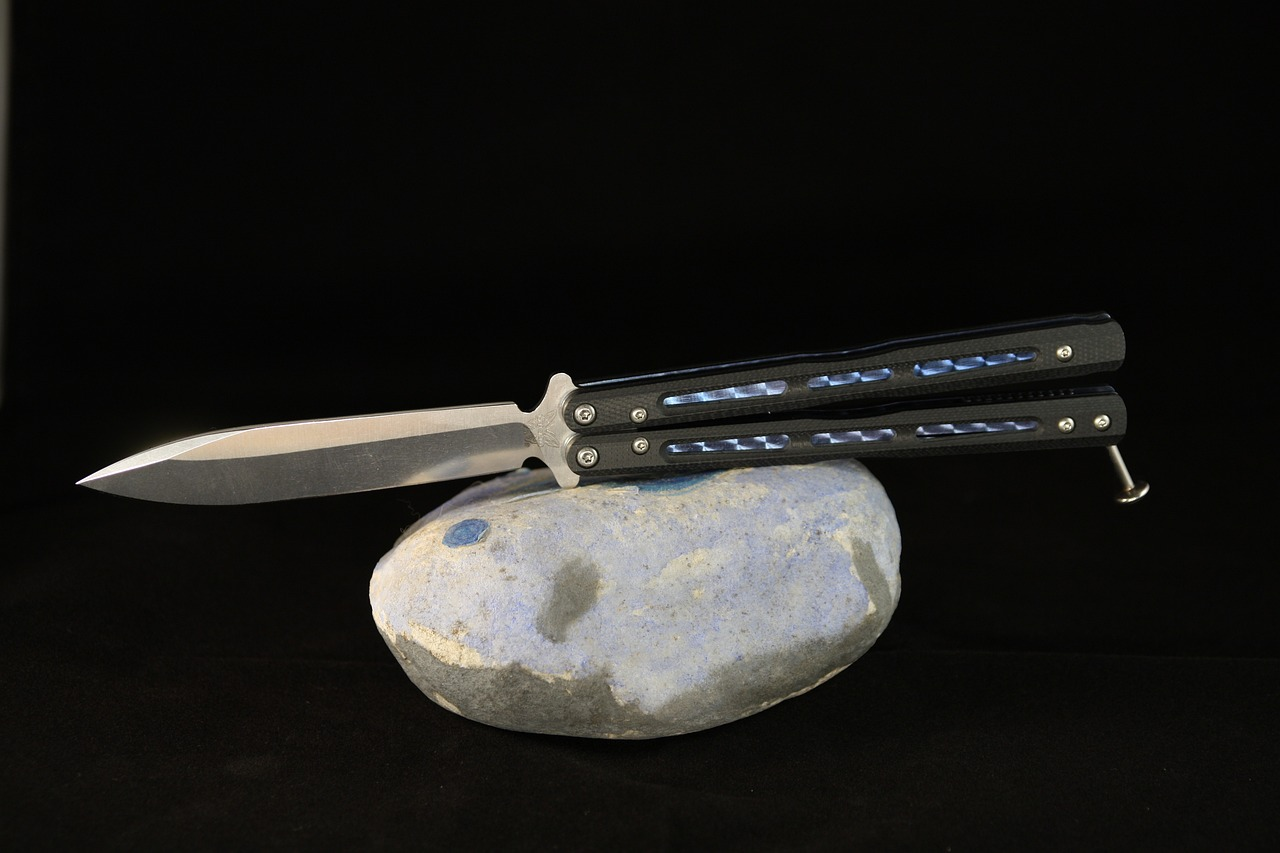knife: (55, 309, 1172, 525)
